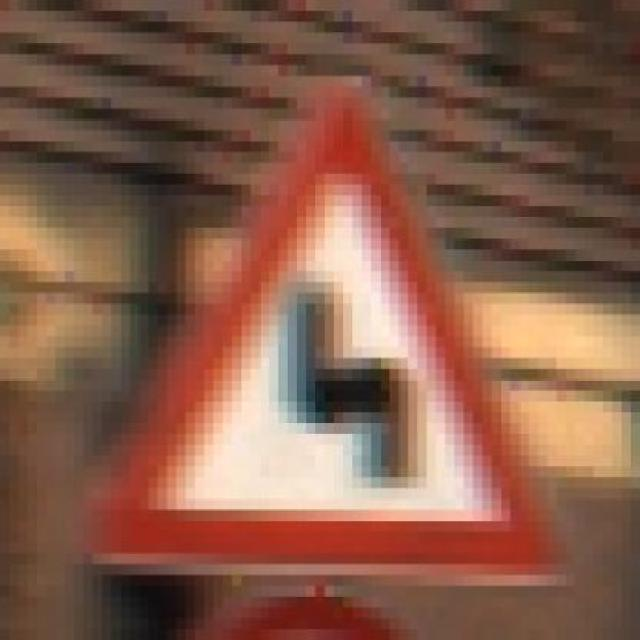Left Zig Zag Traffic: (74, 75, 566, 597)
